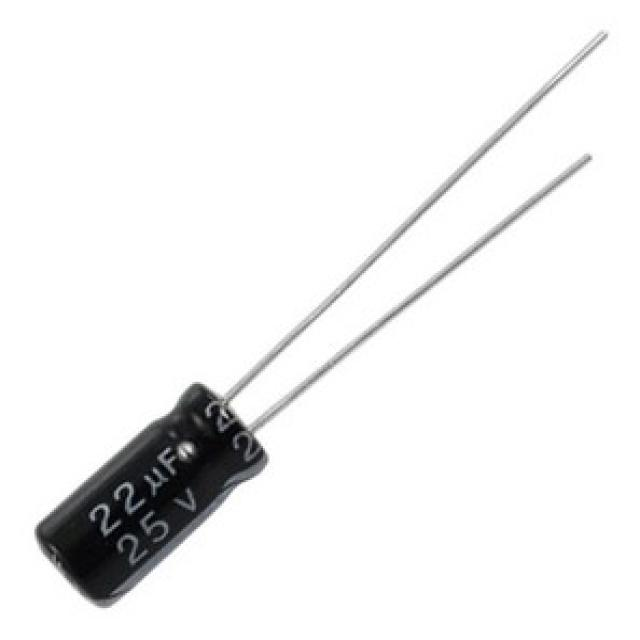Capacitor: (37, 32, 610, 610)
